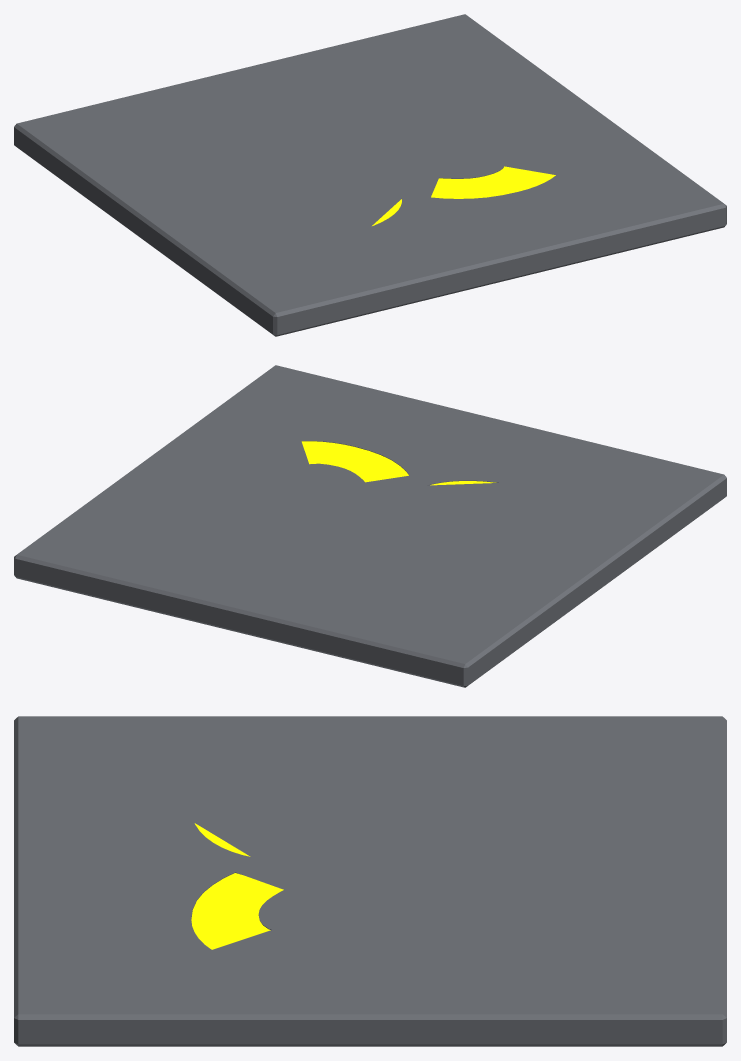
The model's file is SlotS5.fbx.
3 renders of one model, top to bottom at view 1: azimuth 30°, elevation 25°; view 2: azimuth 150°, elevation 25°; view 3: azimuth 270°, elevation 25°, orthographic. The views are drawn at different scales.
Visible parts, largest first — view 1: Plinth; view 2: Plinth; view 3: Plinth.
Boxes of the visible parts, left/top/right/bottom form: Plinth: left=14, top=14, right=726, bottom=336; Plinth: left=14, top=365, right=726, bottom=687; Plinth: left=14, top=716, right=726, bottom=1046.
Bounding box in the file's own units: 5 × 0.25 × 5.
